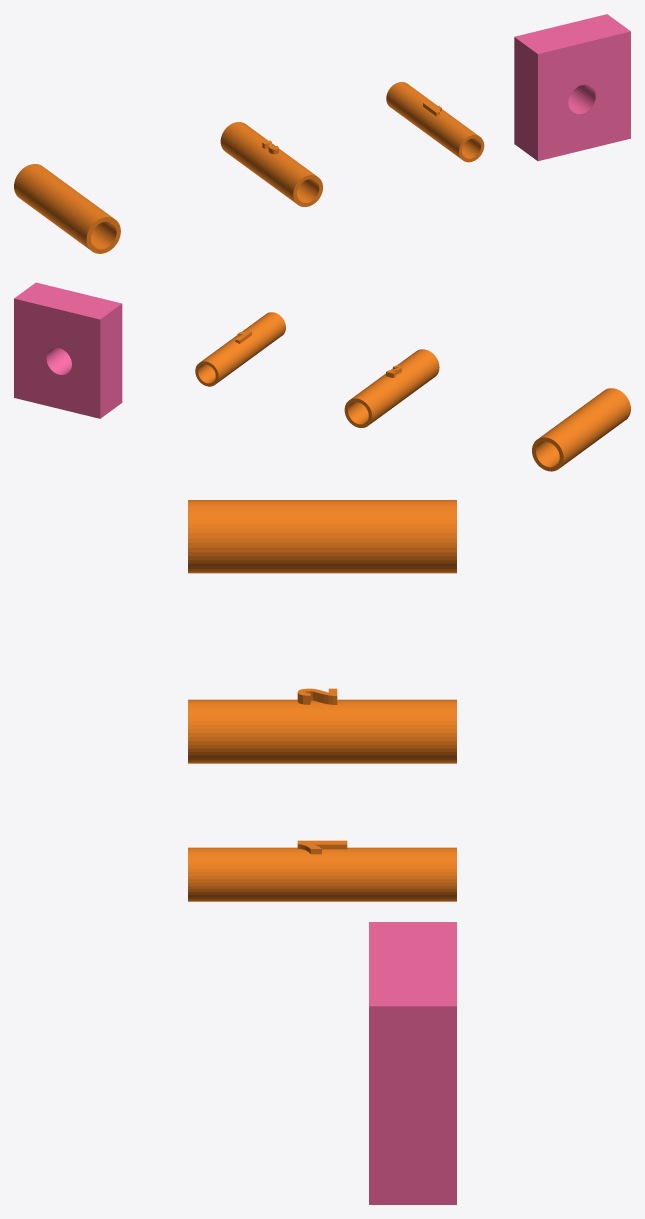
File: tinker.obj
3 renders of one model, top to bottom at view 1: azimuth 30°, elevation 25°; view 2: azimuth 150°, elevation 25°; view 3: azimuth 270°, elevation 25°, orthographic. The views are drawn at different scales.
Parts seen in each view (by area): view 1: group_0_16345508, group_0_16089887; view 2: group_0_16345508, group_0_16089887; view 3: group_0_16089887, group_0_16345508.
Boxes of the visible parts, x1=… form: group_0_16345508: x1=514, y1=14, x2=630, y2=161; group_0_16089887: x1=14, y1=82, x2=484, y2=253; group_0_16345508: x1=14, y1=282, x2=122, y2=418; group_0_16089887: x1=195, y1=312, x2=630, y2=471; group_0_16089887: x1=188, y1=500, x2=456, y2=901; group_0_16345508: x1=369, y1=922, x2=456, y2=1204.
Bounding box in the file's own units: 50.55 × 8.73 × 10.72.
